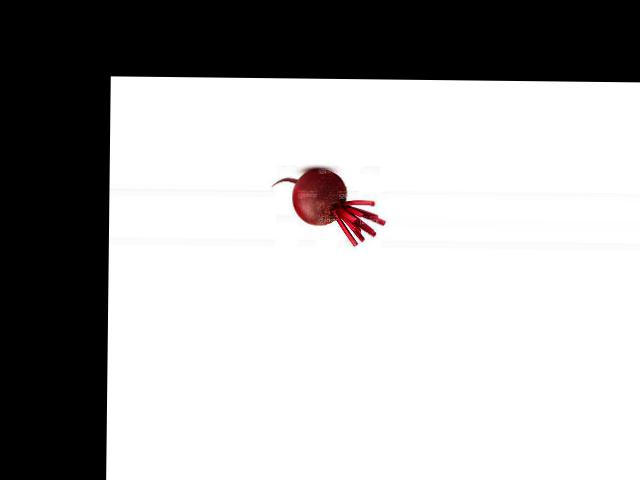beet: (271, 168, 386, 246)
